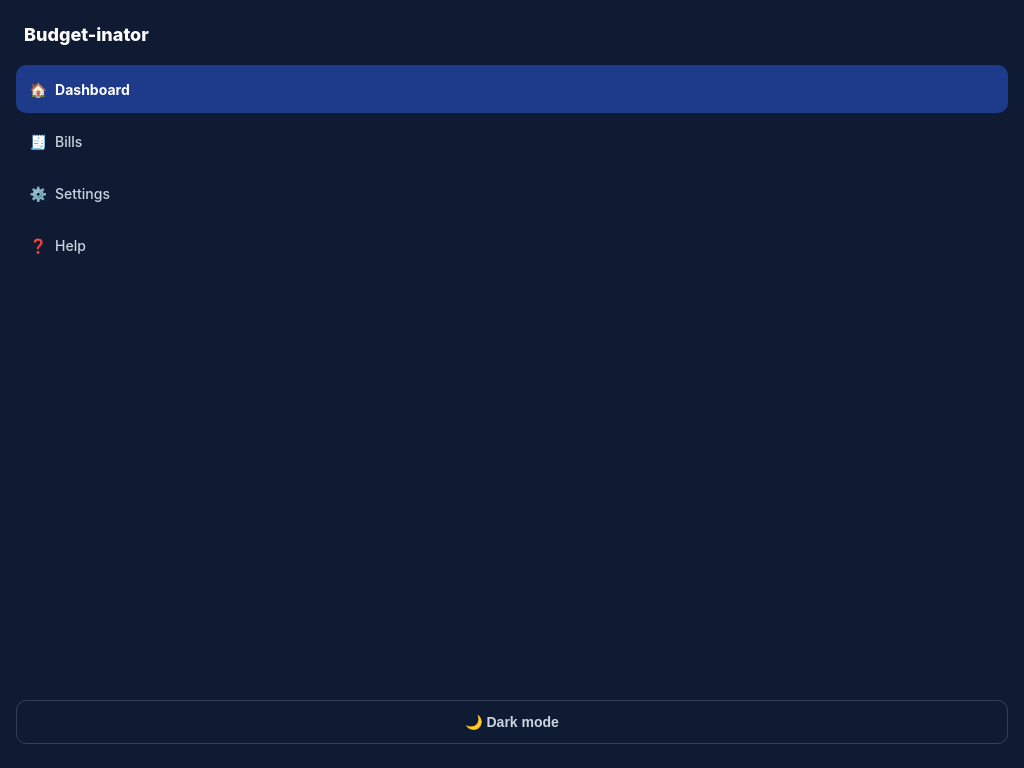
Sidebar › toggles dark mode and persists the preference
The width and height of the screenshot is (1024, 768).
Click the button "🌙 Dark mode".
click(512, 722)  # box [16,700,1008,744]
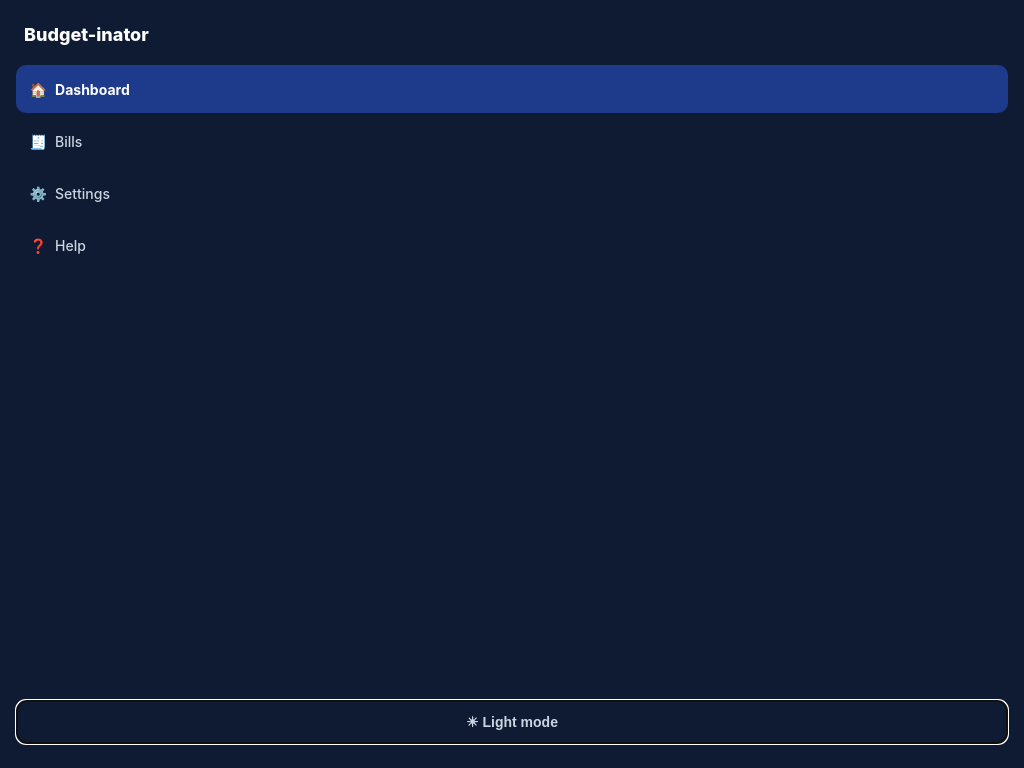
Check: the button "☀ Light mode" is shown, box [16,700,1008,744]
